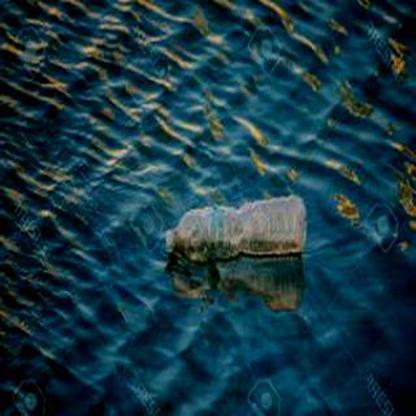plastic bottle: (165, 194, 307, 257)
